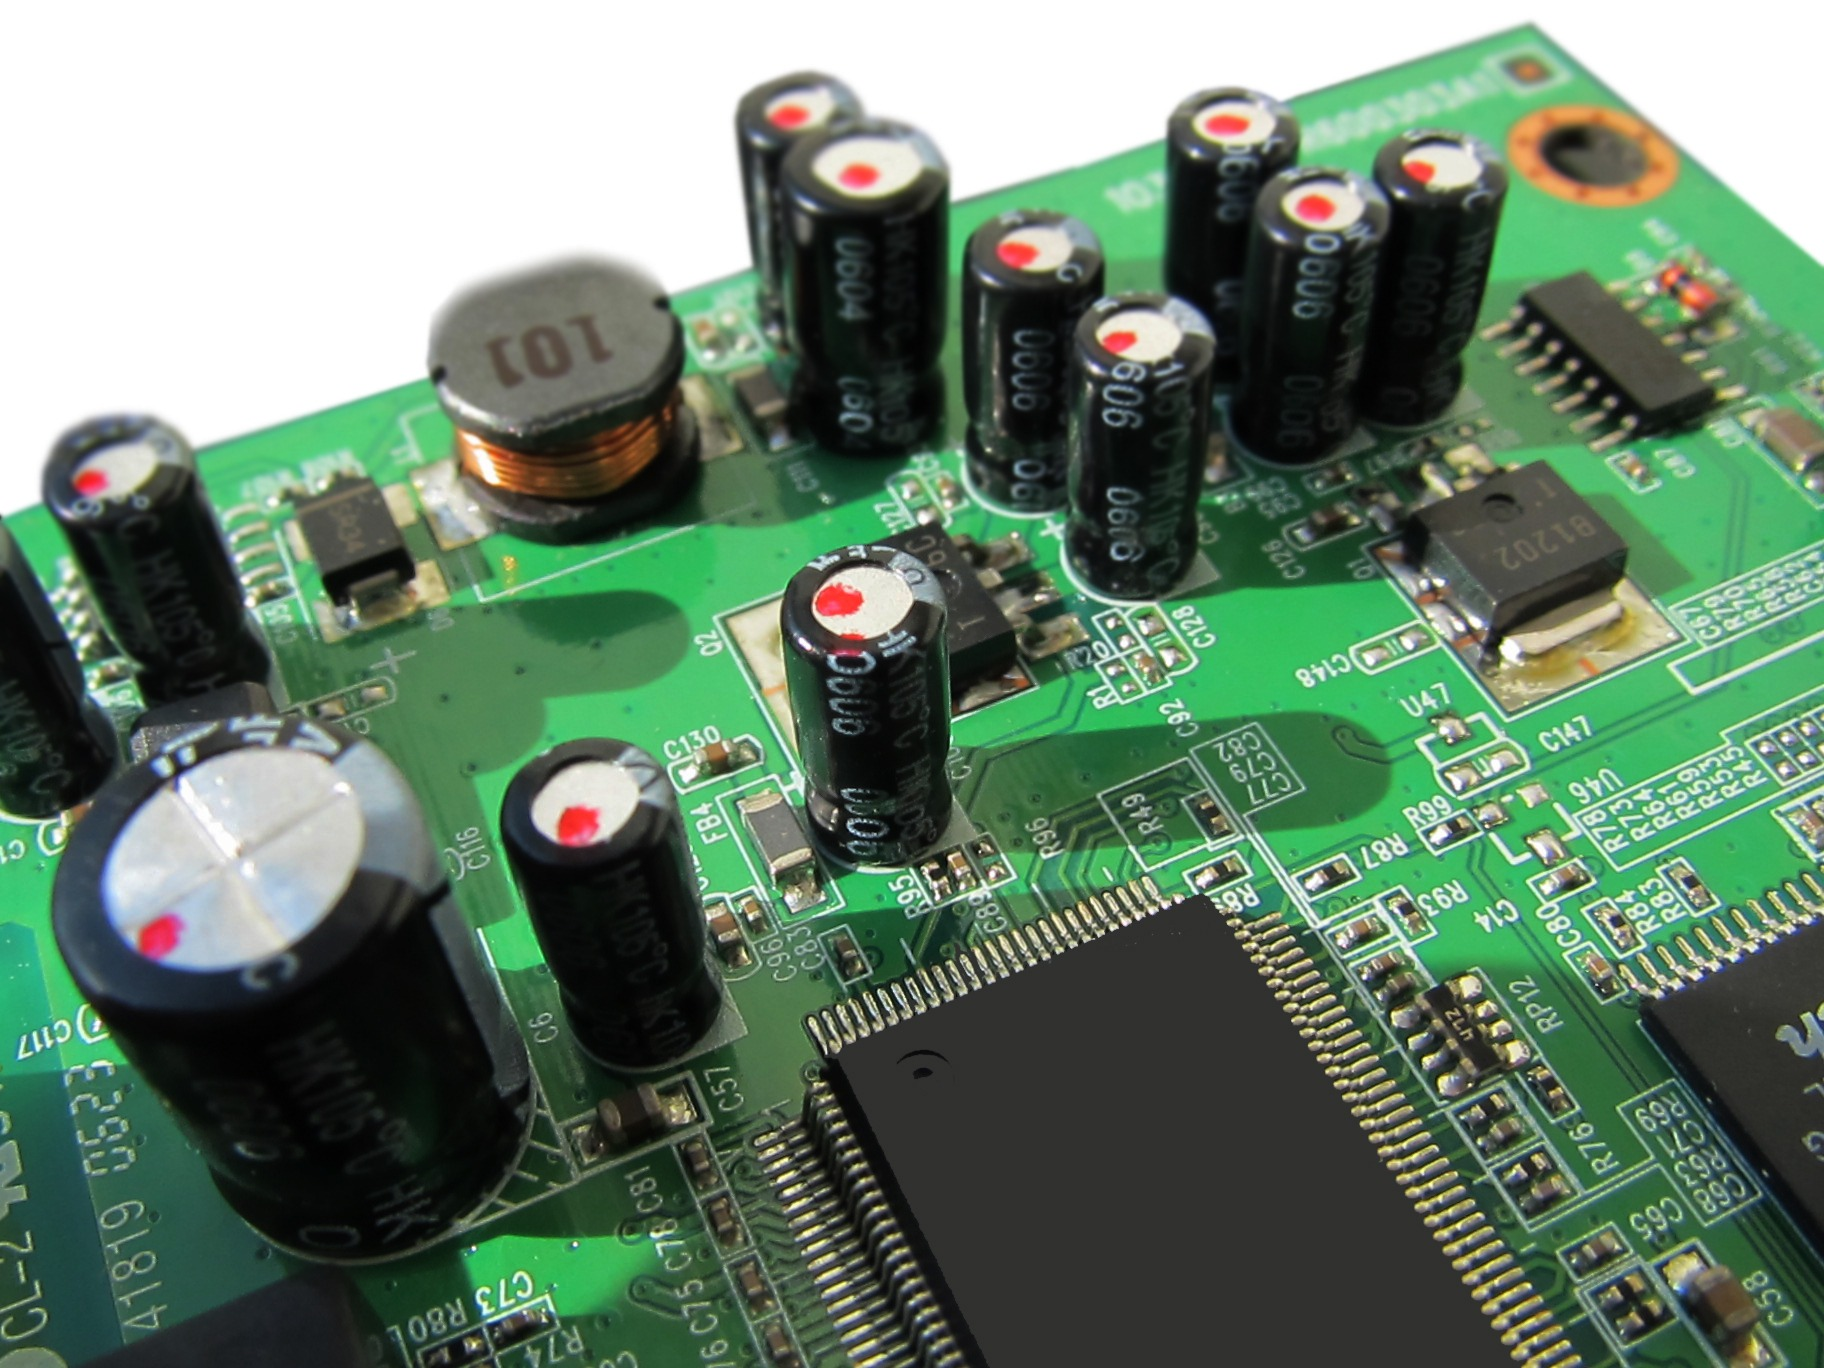capacitor: (59, 718, 474, 1253), (477, 721, 768, 1089), (766, 530, 1002, 910), (33, 405, 292, 711), (787, 125, 955, 456), (1377, 124, 1537, 456), (1076, 287, 1227, 598)
